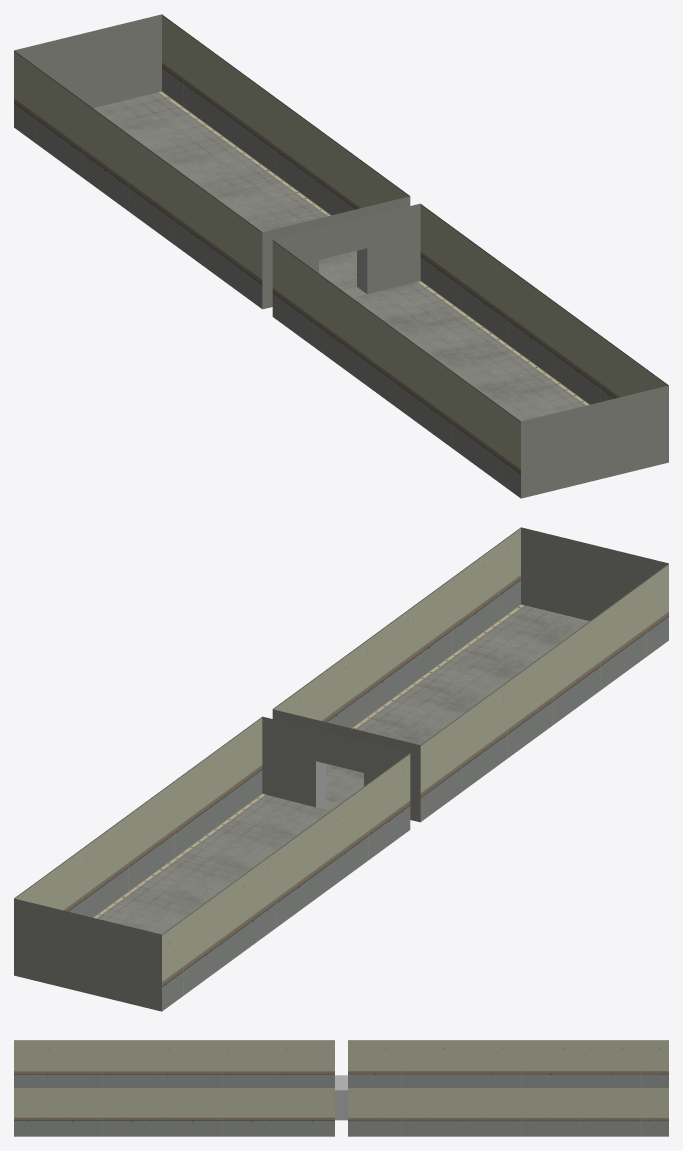
File: TesterHallwayFBX.fbx
3 views of the same model, one above another, from view 1: azimuth 30°, elevation 25°; view 2: azimuth 150°, elevation 25°; view 3: azimuth 270°, elevation 25° (orthographic). The views are drawn at different scales.
Visible parts, largest first — view 1: Hallway0Base; view 2: Hallway0Base; view 3: Hallway0Base.
Part boxes in pixels (box(x1,y1,x2,y2)): Hallway0Base: box(14, 14, 668, 498); Hallway0Base: box(14, 527, 668, 1011); Hallway0Base: box(14, 1040, 668, 1136).
Bounding box in the file's own units: 1846 × 927 × 10959.
